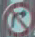Don't turn right: (1, 2, 34, 35)
